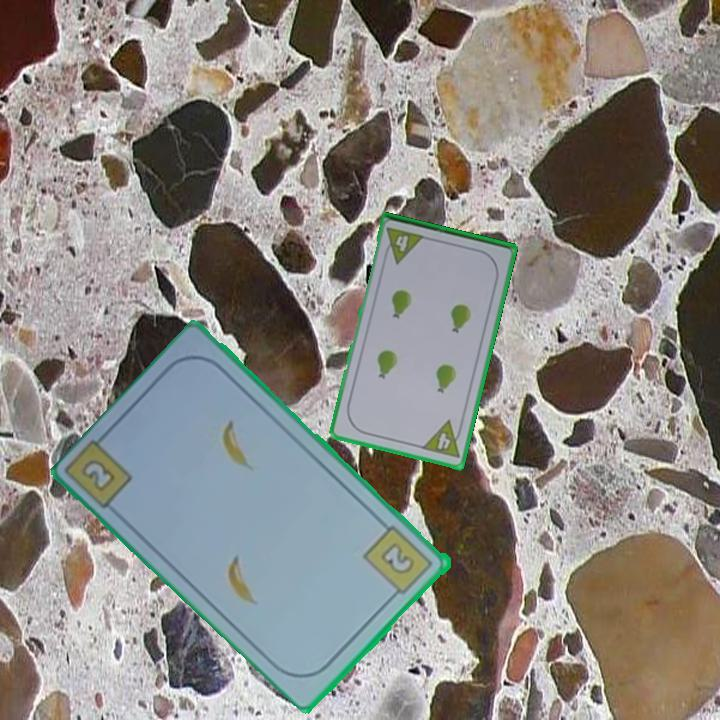2b: (360, 522, 437, 603), (78, 455, 120, 495)
4p: (418, 417, 466, 461), (380, 224, 427, 266)
